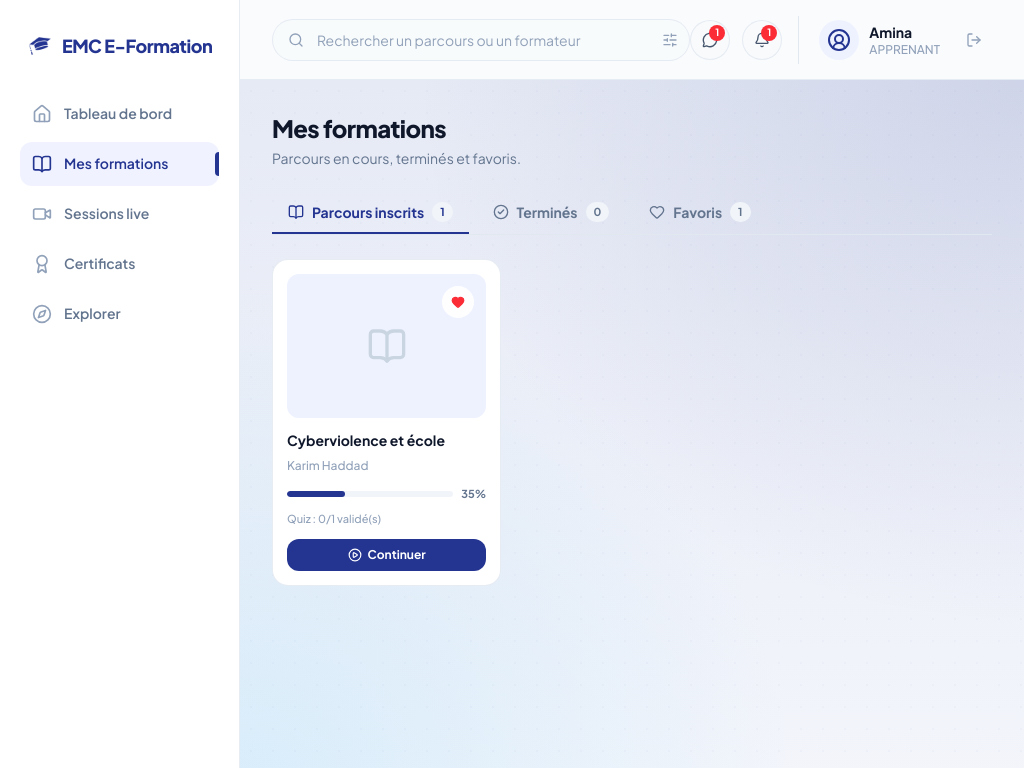
it: Intégration — parcours apprenant › liste les formations inscrites et les onglets
Check: the heading "Mes formations" is shown, box [272, 113, 446, 143]
Check: the heading "Cyberviolence et école" is shown, box [287, 431, 445, 449]
Click the button "Terminés 0": (551, 213) [477, 192, 625, 234]
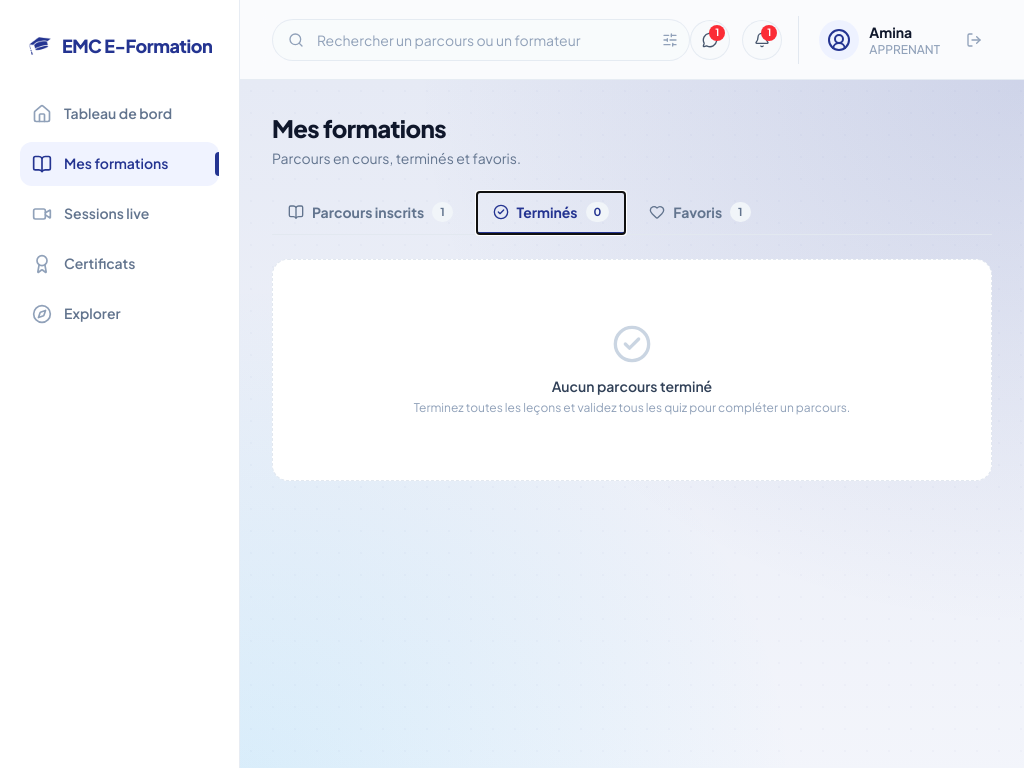
Check: the text "Aucun parcours terminé" is shown, box [552, 377, 712, 395]
Click the button "Favoris 1": (700, 213) [633, 192, 766, 234]
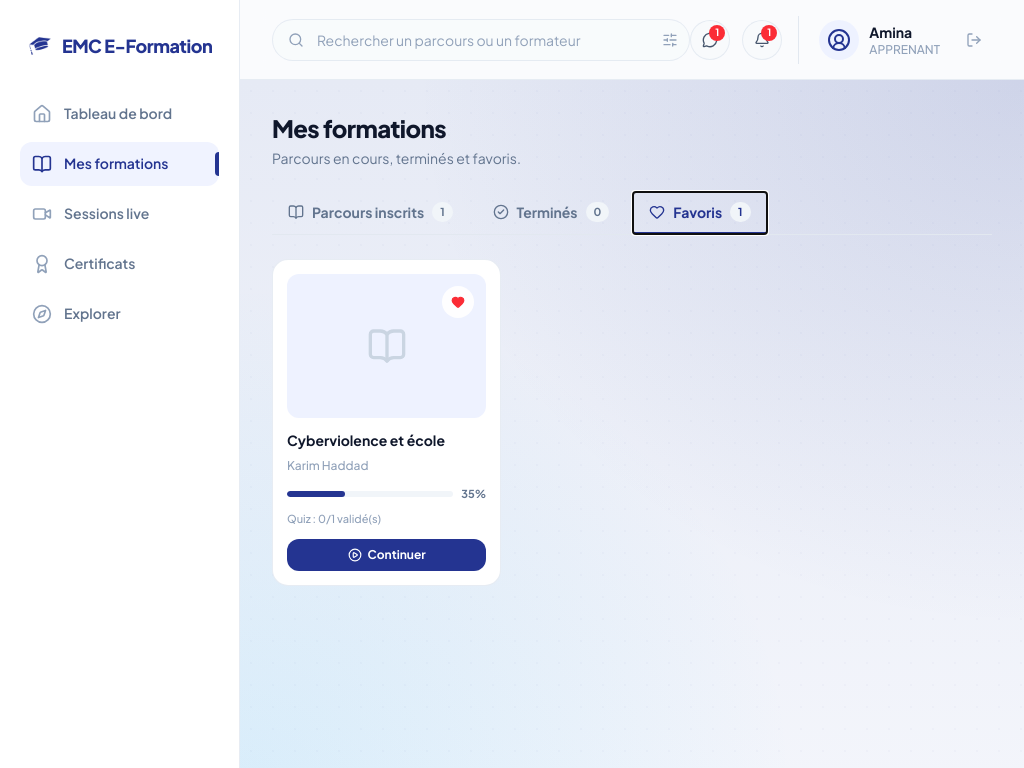
Check: the heading "Cyberviolence et école" is shown, box [287, 431, 445, 449]
